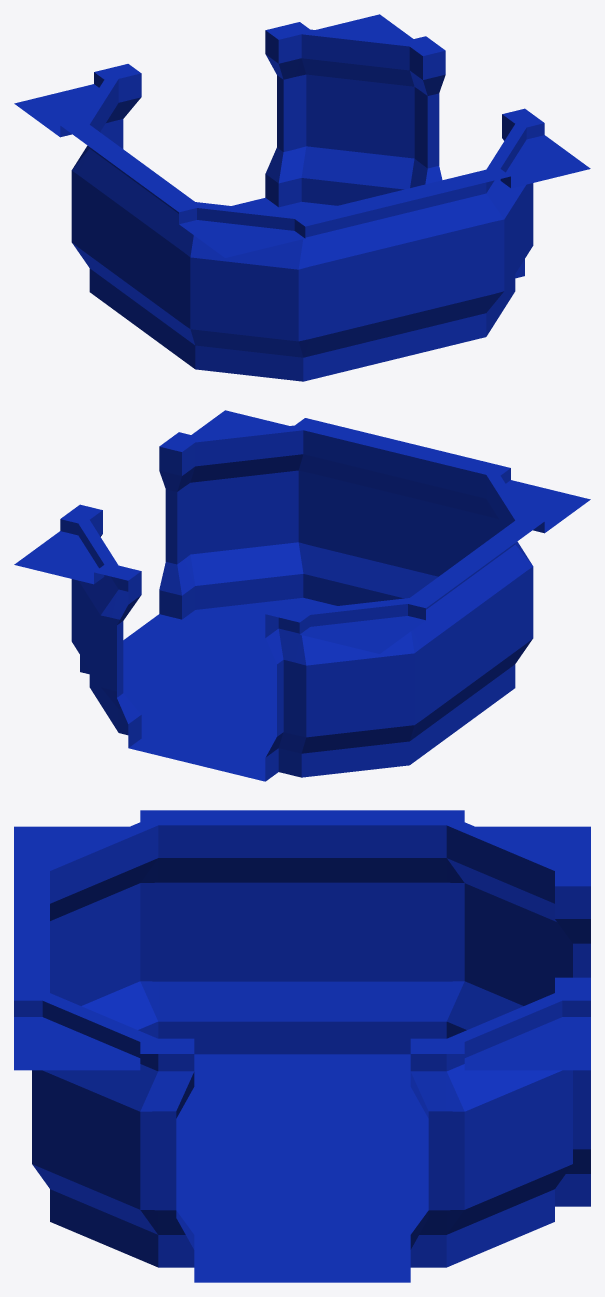
Rendered from 1x1_Corner2.FBX.
The picture shows the model from 3 angles, top to bottom: view 1: azimuth 30°, elevation 25°; view 2: azimuth 150°, elevation 25°; view 3: azimuth 270°, elevation 25°; orthographic projection. The views are drawn at different scales.
Parts seen in each view (by area): view 1: 1x1_Corner2; view 2: 1x1_Corner2; view 3: 1x1_Corner2.
Boxes of the visible parts, bbox=[...] form: 1x1_Corner2: bbox=[14, 14, 590, 381]; 1x1_Corner2: bbox=[14, 410, 590, 781]; 1x1_Corner2: bbox=[14, 810, 590, 1282].
Size of what is drawn, in the model's own units: 800 by 350 by 800.
